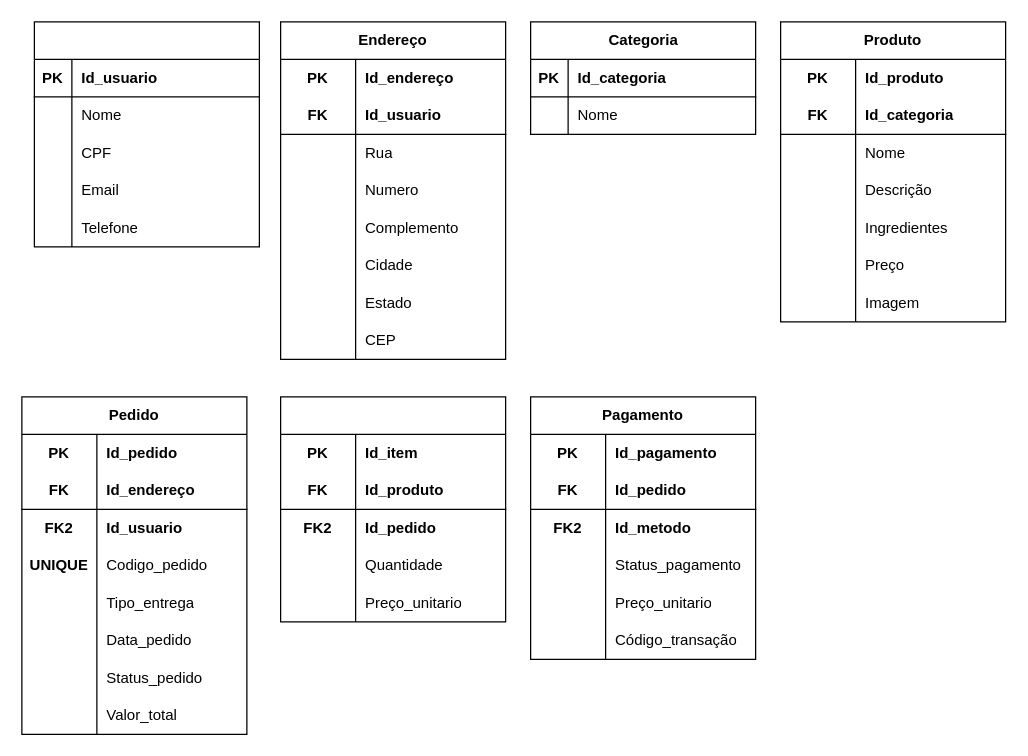
Some shapes in this 1028 by 756 pixel diagram are drawn without their labels. The shapes that lost their labels are listed below. From the top down, each one's box as (x1, y1, x2, y2) in pixels, then its label:
(33, 21, 259, 247): Usuário
(279, 396, 506, 622): Item_Pedido
